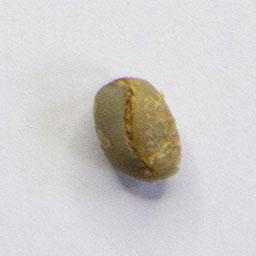peaberry: (90, 73, 186, 185)
